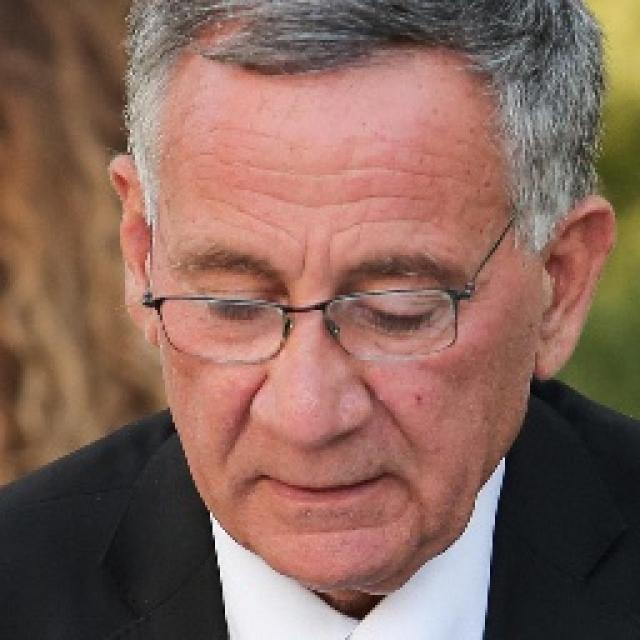earlobe: (530, 198, 617, 382), (108, 153, 159, 347)
